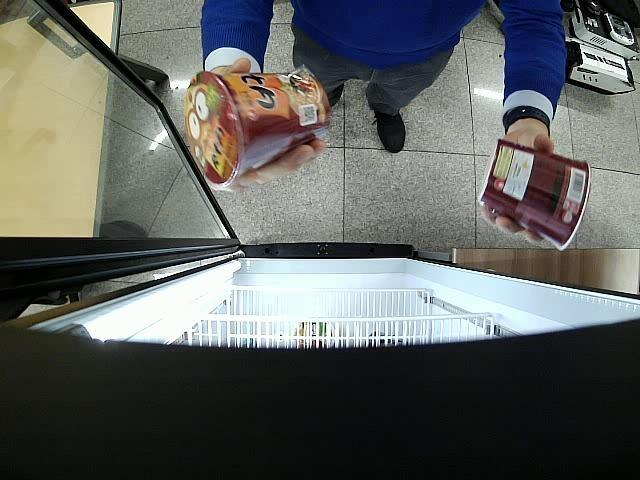06_nuguri_S: (185, 71, 329, 188), (476, 138, 592, 250)
